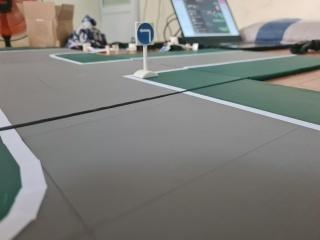left: (134, 21, 158, 47)
